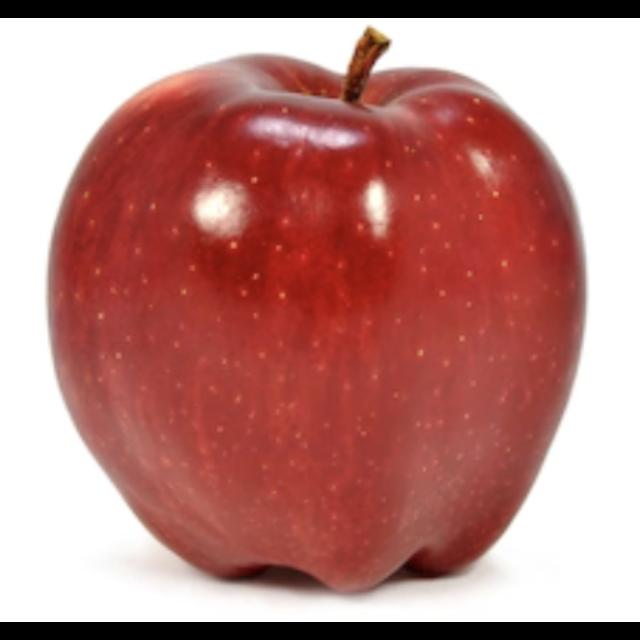Apel Segar: (40, 62, 614, 592)
